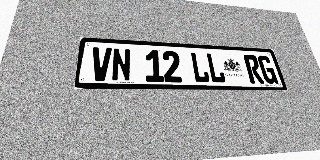1: (145, 49, 164, 82)
2: (162, 50, 182, 82)
G: (257, 55, 278, 84)
L: (205, 53, 226, 83), (190, 52, 210, 83)
N: (111, 48, 131, 82)
R: (243, 55, 265, 84)
V: (90, 47, 112, 81)
